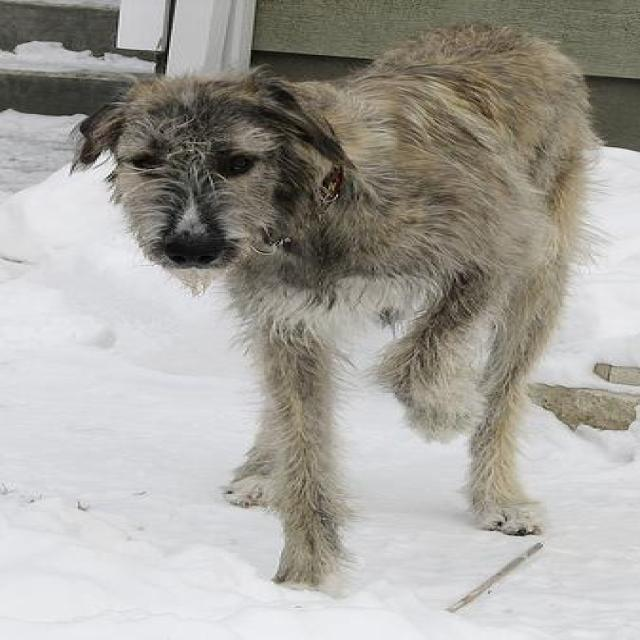irish_wolfhound: (62, 15, 608, 593)
